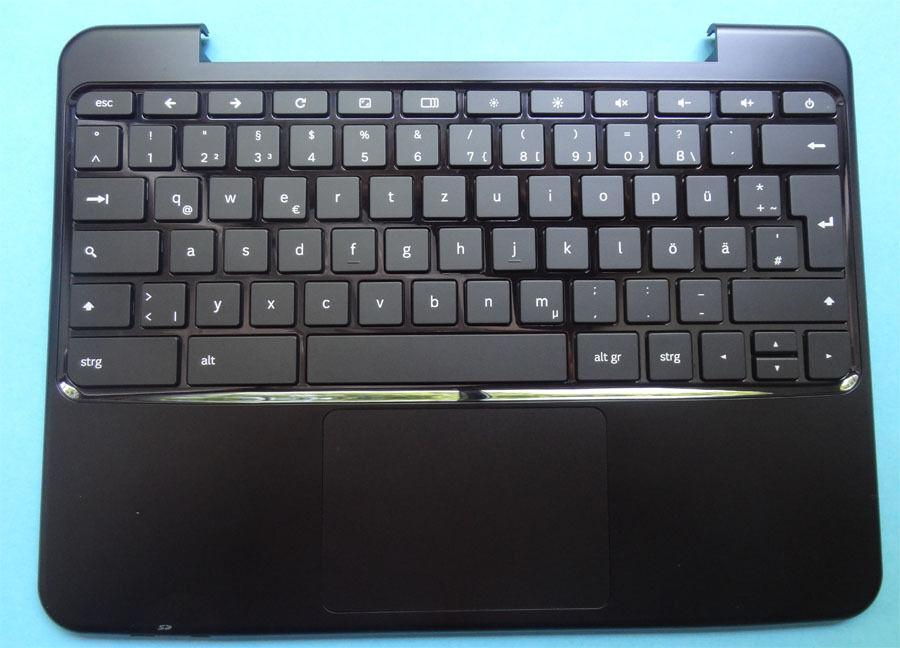0: (602, 118, 649, 165)
1: (125, 120, 172, 166)
2: (179, 120, 226, 166)
3: (233, 120, 280, 166)
4: (286, 119, 332, 165)
5: (340, 119, 387, 166)
6: (393, 119, 440, 165)
7: (445, 119, 491, 164)
8: (498, 119, 543, 165)
9: (550, 119, 596, 165)
a: (165, 224, 213, 272)
accent: (707, 119, 751, 163)
ae: (700, 222, 746, 267)
alt-left: (185, 330, 297, 385)
altgr-right: (571, 327, 638, 379)
b: (409, 275, 458, 322)
c: (300, 276, 348, 324)
caret: (71, 120, 119, 167)
comma: (569, 275, 615, 320)
d: (274, 224, 321, 270)
del: (758, 119, 839, 163)
e: (259, 172, 306, 218)
enter: (786, 169, 843, 268)
f: (328, 223, 375, 271)
g: (382, 223, 429, 270)
h: (435, 222, 481, 269)
hash: (751, 221, 797, 267)
i: (525, 170, 570, 215)
j: (489, 223, 535, 269)
k: (542, 222, 588, 268)
keyboard: (48, 69, 863, 400)
l: (595, 222, 641, 267)
less: (135, 278, 185, 326)
m: (515, 275, 563, 322)
minus: (674, 274, 721, 320)
n: (461, 275, 510, 322)
o: (577, 171, 623, 215)
oe: (647, 223, 693, 268)
p: (631, 171, 676, 216)
plus: (734, 170, 779, 215)
point: (622, 274, 668, 320)
q: (150, 172, 199, 219)
r: (313, 172, 359, 217)
s: (221, 224, 267, 271)
shift-left: (65, 279, 130, 326)
shift-lock: (66, 225, 158, 272)
shift-right: (726, 273, 846, 320)
space: (304, 328, 565, 383)
ss: (654, 119, 700, 164)
strg-left: (59, 331, 179, 389)
strg-right: (643, 327, 691, 379)
t: (367, 171, 413, 217)
tab: (68, 172, 144, 219)
u: (472, 171, 518, 216)
ue: (683, 171, 728, 216)
v: (354, 276, 402, 323)
w: (205, 172, 252, 218)
x: (247, 277, 296, 324)
y: (192, 277, 241, 325)
z: (420, 171, 466, 216)
